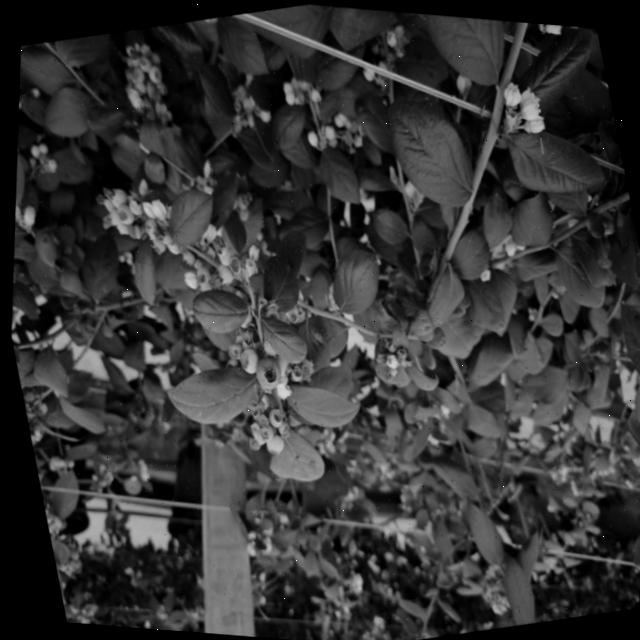RipeBlueBerry: (246, 348, 286, 392)
